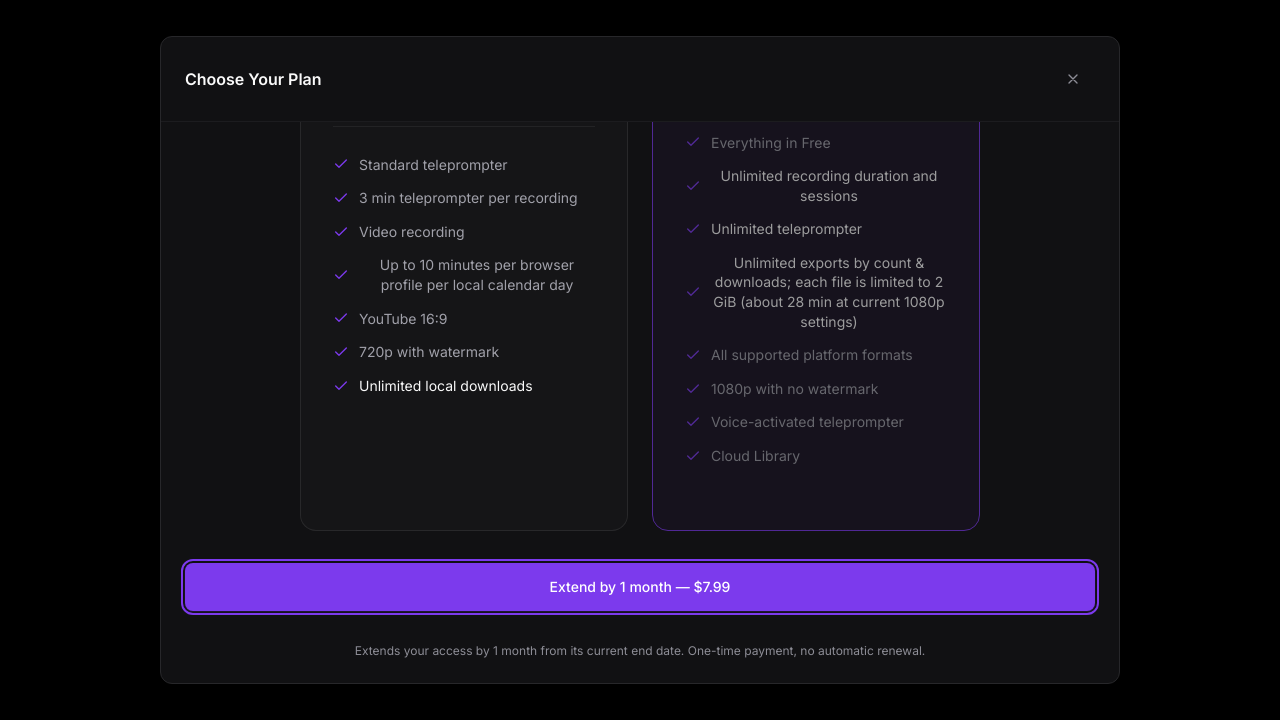
it: PricingModal — renewing an active plan › continues into the payment form from an extension
The image size is (1280, 720).
(page scrolled)
Click the button "Extend by 1 month — $7.99": (640, 587) 185,563 -> 1095,611
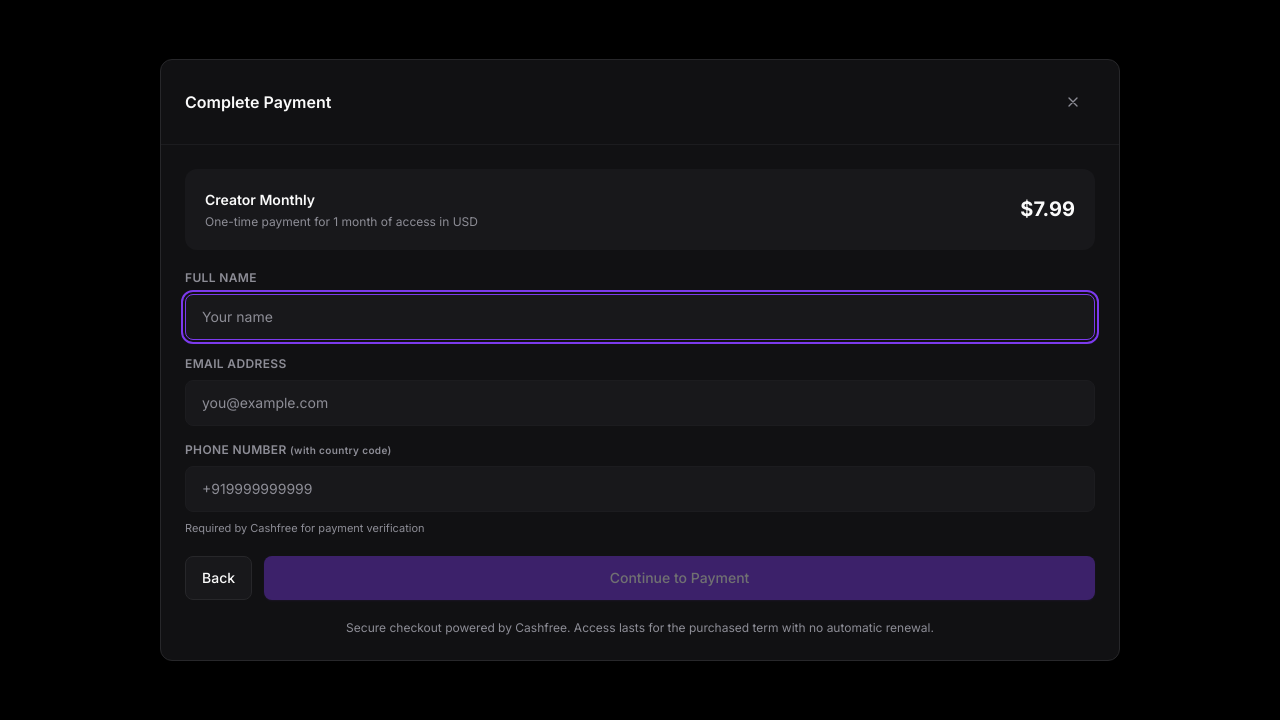
Result: the dialog "Complete Payment" is shown
Result: the text "One-time payment for 1 month of access in USD" is shown at 205,214 -> 478,230
